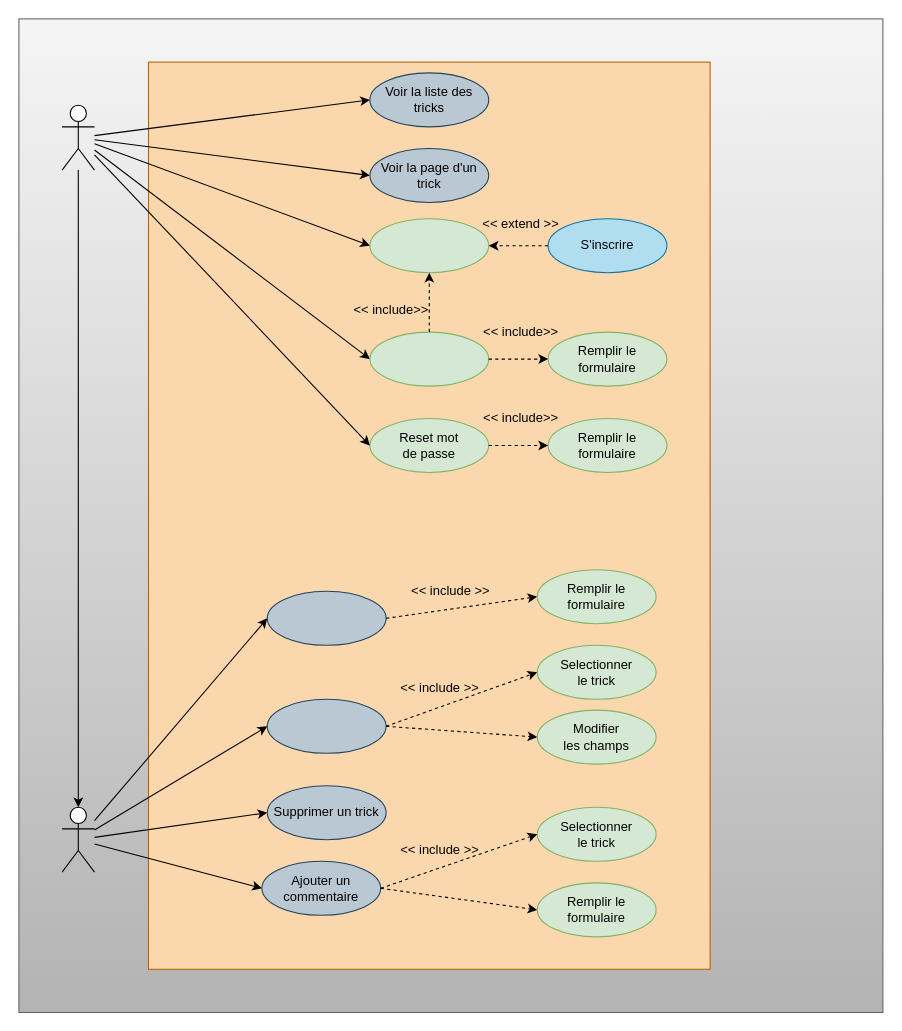
The diagram is 902 pixels wide and 1031 high, and some of its shapes have lost their labels. The shapes that lost their labels are listed below. From the top down, each one's box as (x1, y1, x2, y2) in pixels, then its label:
(61, 104, 94, 170): Visiteur
(369, 218, 489, 273): Se connecter
(369, 331, 489, 386): Modifier ses infos
(266, 590, 386, 645): Ajouter un trick
(266, 698, 386, 753): Modifier un trick
(61, 806, 94, 872): Visiteur Connecté
